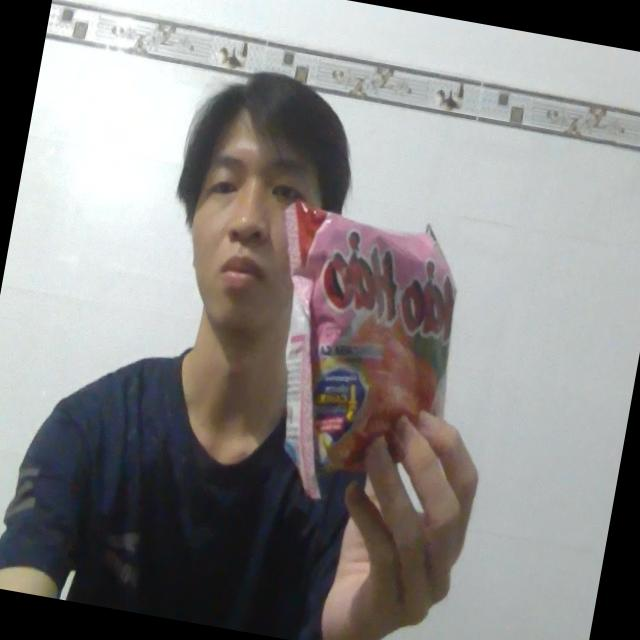mi hao hao: (222, 178, 504, 531)
